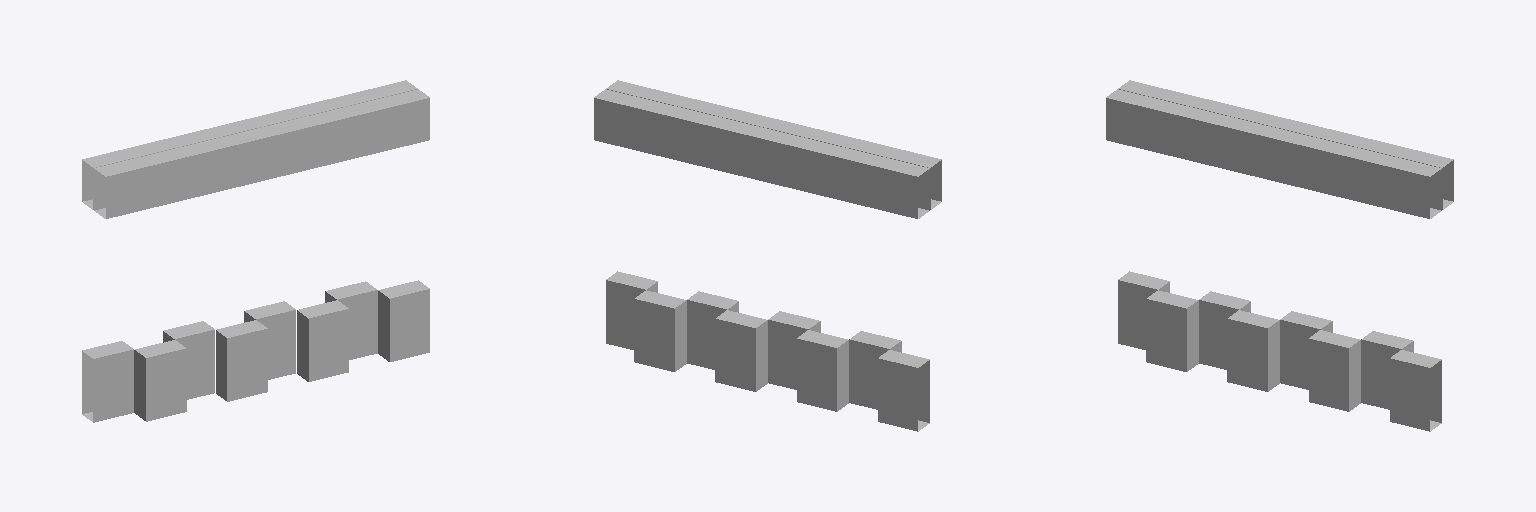
The model's file is Colby9RevisedNoMat.obj.
The picture shows the model from 3 angles: view 1: azimuth 30°, elevation 25°; view 2: azimuth 150°, elevation 25°; view 3: azimuth 330°, elevation 25°; orthographic projection.
Visible parts, largest first — view 1: Plane, Plane.001_Plane.002; view 2: Plane.001_Plane.002, Plane; view 3: Plane, Plane.001_Plane.002.
Part boxes in pixels (x1,y1,x2,y2): Plane: (94,89,429,421); Plane.001_Plane.002: (82,80,417,422); Plane.001_Plane.002: (594,89,929,431); Plane: (606,80,941,409); Plane: (1106,89,1441,431); Plane.001_Plane.002: (1118,80,1453,409).
Size of the model in its own units: 16 by 12 by 2.04.